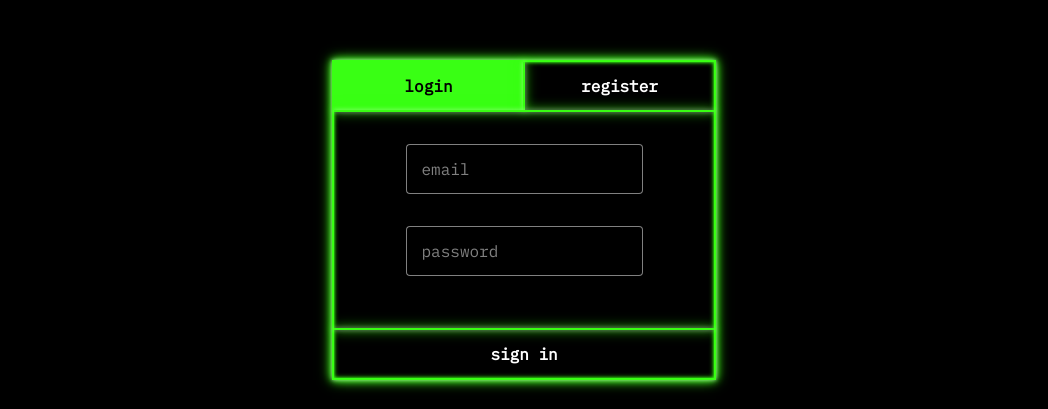
Test: welcome screen › logins existing
This screenshot has width=1048, height=409.
In the field with id "loginEmail": x=525, y=169 406,144 -> 643,194, type "test@mail.com"
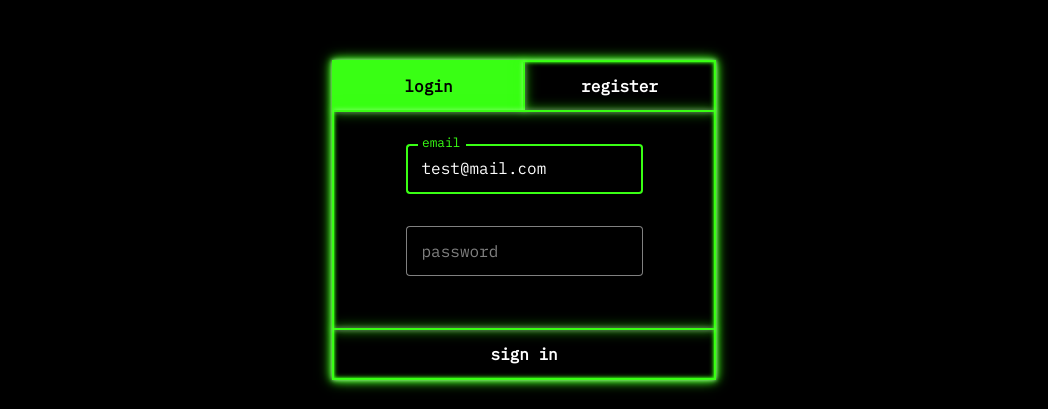
In the password field with id "loginPassword": x=525, y=251 406,226 -> 643,276, type "test123!"
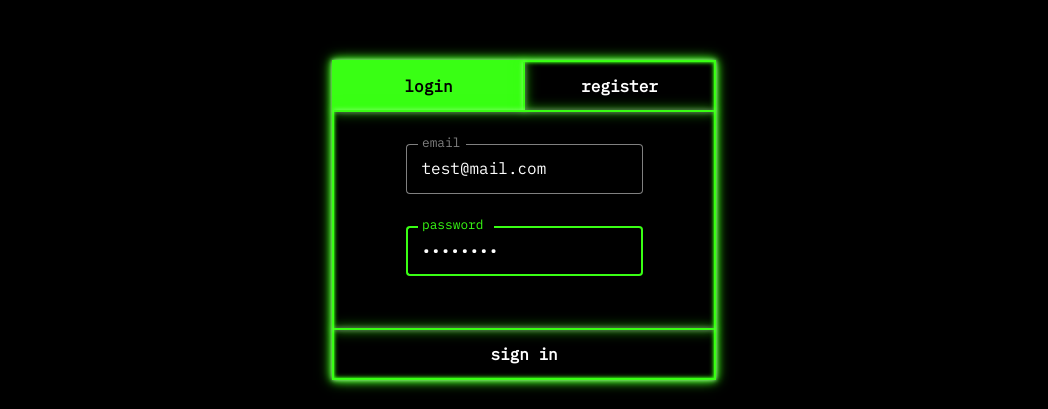
Click the button with id "loginConfirm": x=524, y=354 334,330 -> 714,378
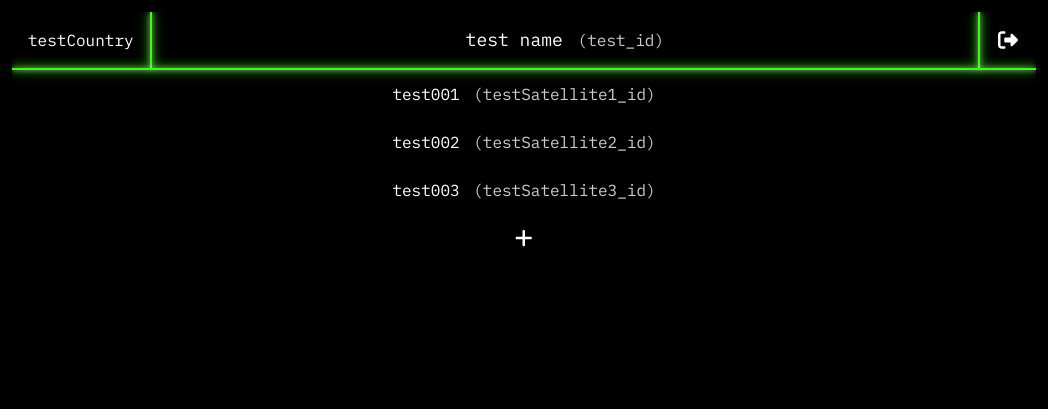
Result: the element that starts with "test001" is shown at 12,70 -> 1036,262
